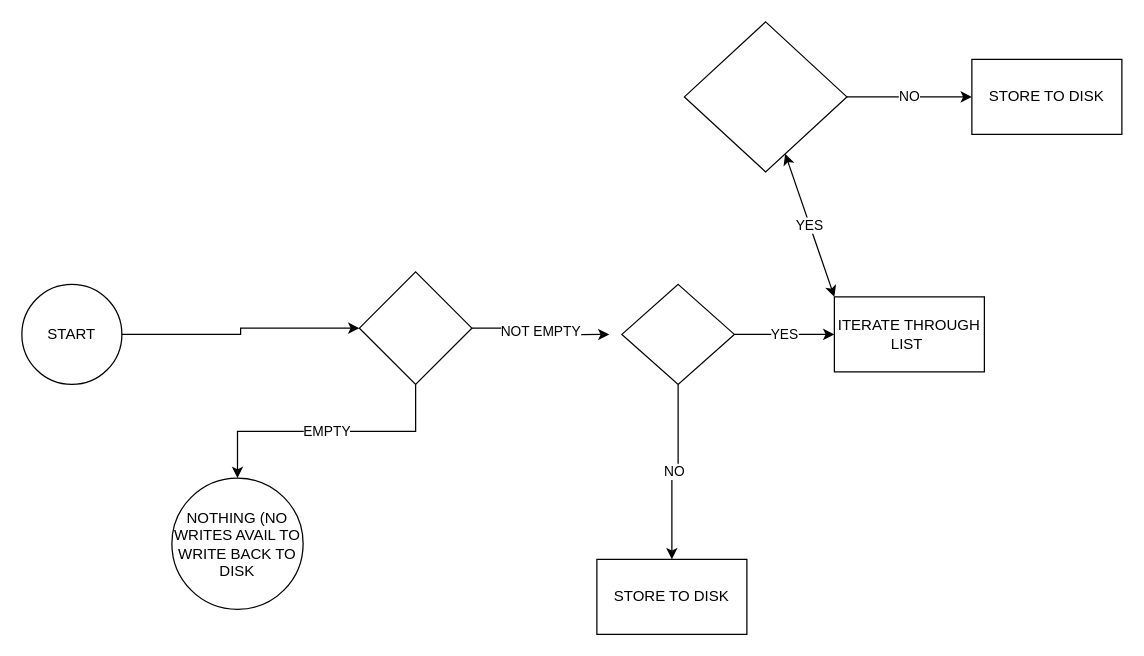
The diagram is 1144 pixels wide and 656 high, and some of its shapes have lost their labels. The shapes that lost their labels are listed below. From the top down, each one's centre as x and y in pixels, then its label:
At [765,96]: "CHECK FOR SAME BLOCK".
At [415,327]: "CHECK DIRTYLIST".
At [677,333]: "HAS NEXT()".
